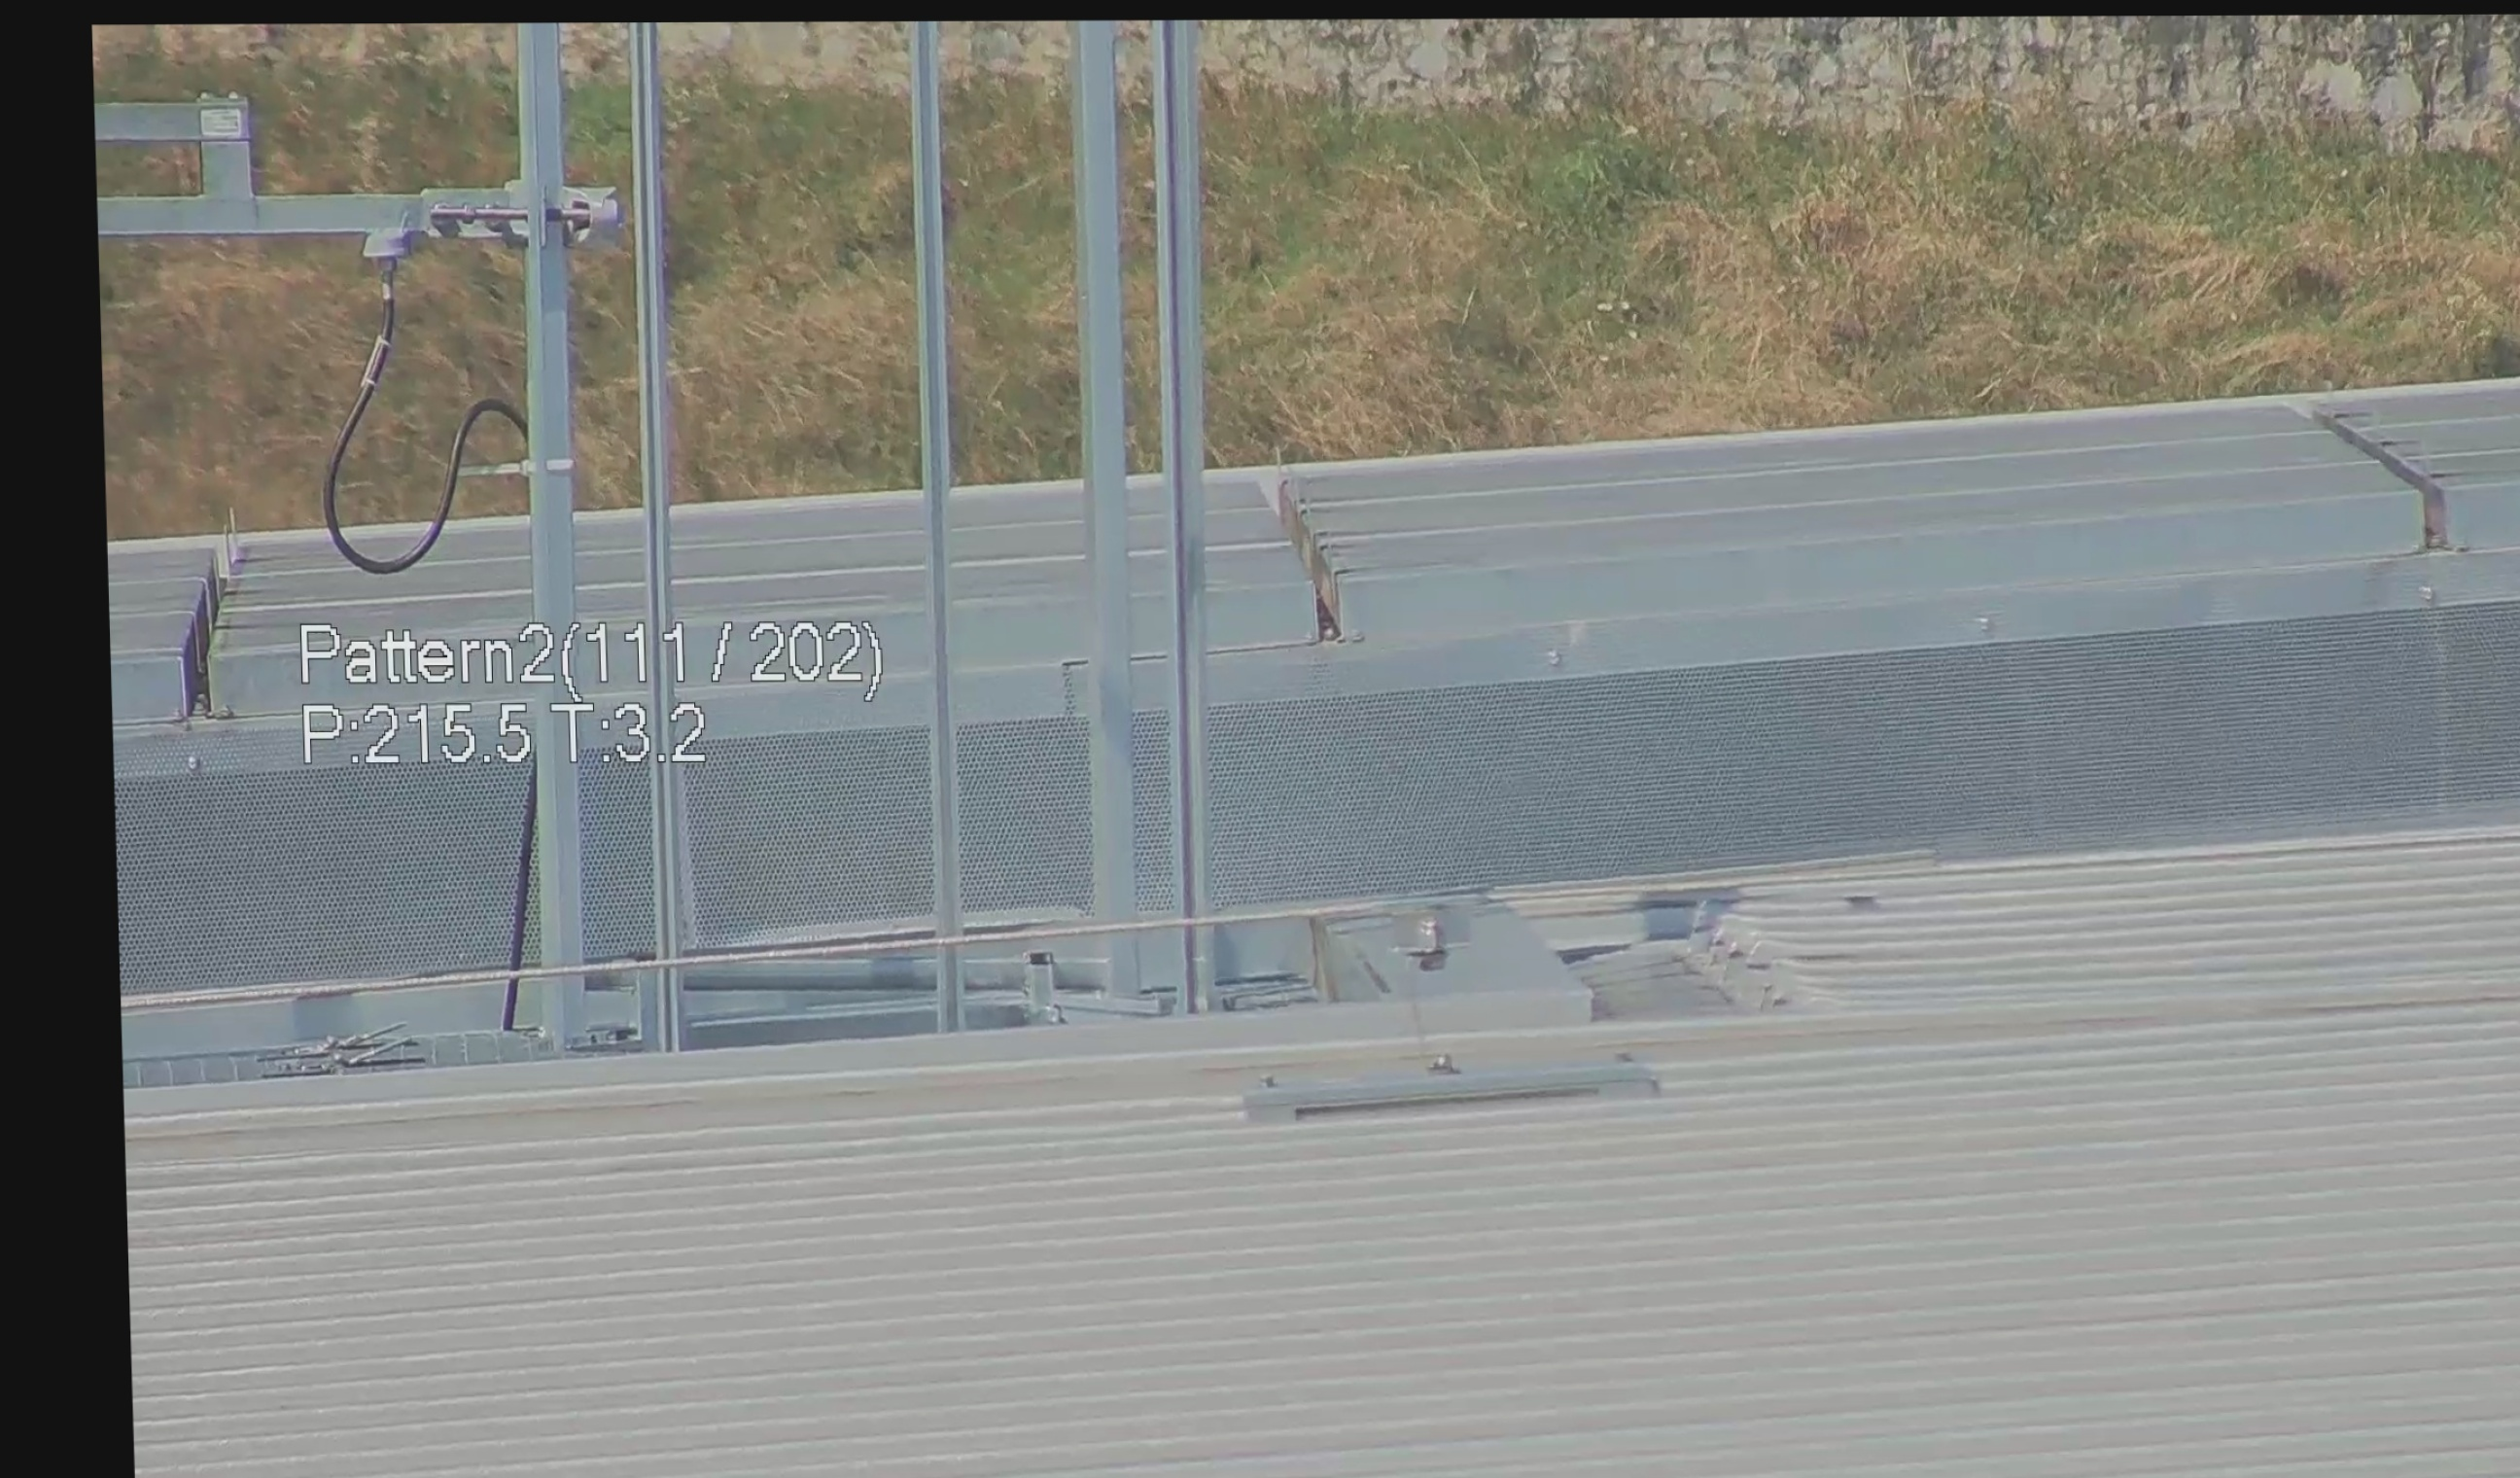Other: (1252, 456, 1366, 639)
